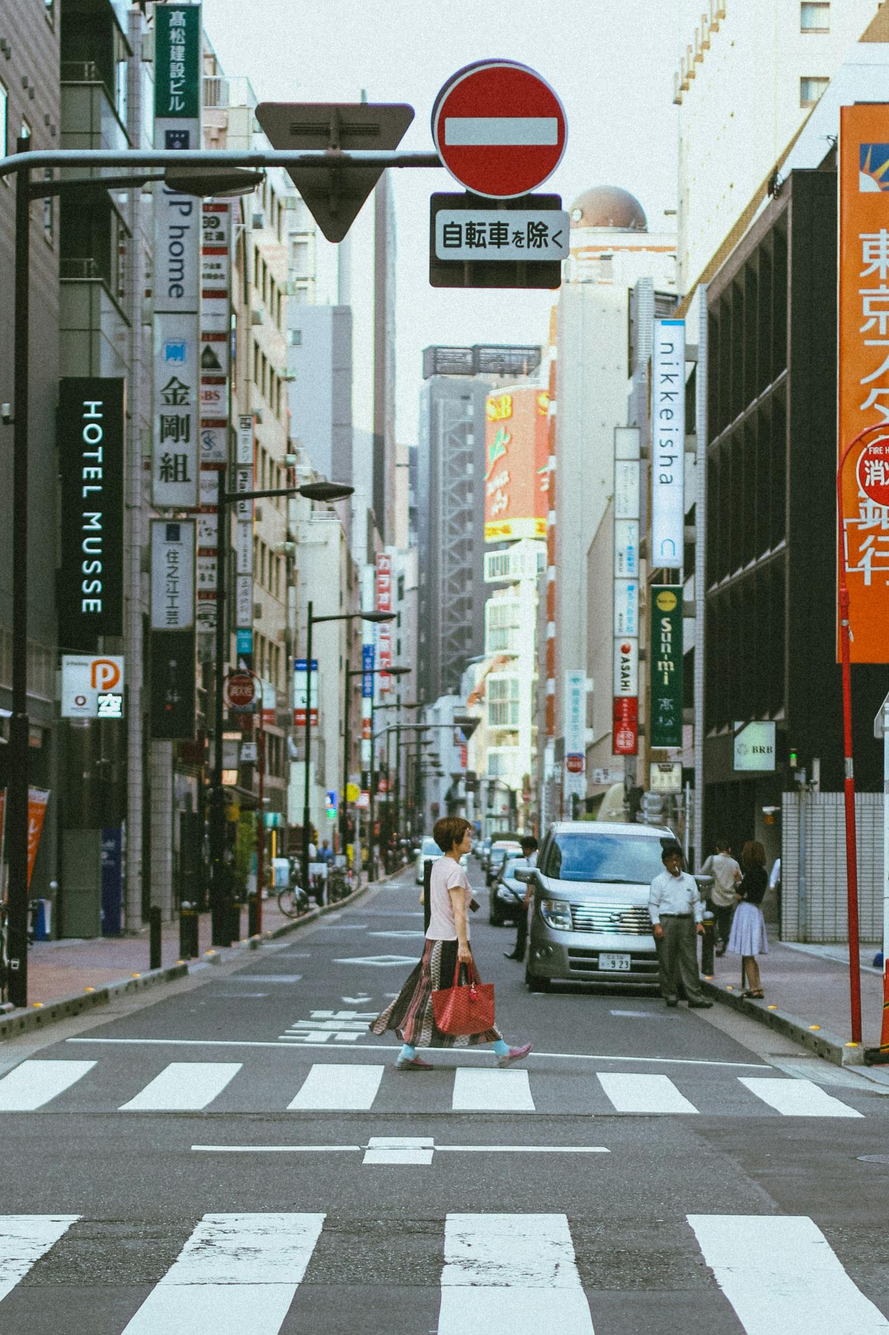barrier: (424, 55, 575, 205)
